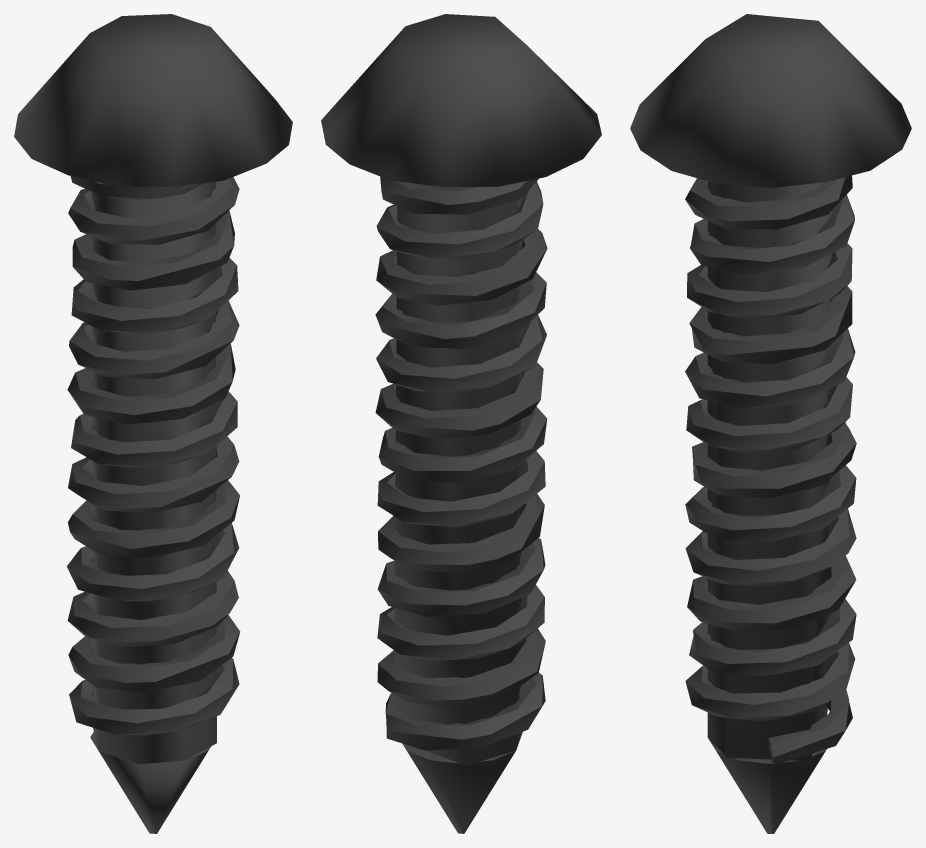
File: ALV-DRY-006_lod1.glb
3 views of the same model, side by side, from view 1: azimuth 30°, elevation 25°; view 2: azimuth 150°, elevation 25°; view 3: azimuth 270°, elevation 25° (orthographic).
Parts seen in each view (by area): view 1: ALV-DRY-006_rosca, ALV-DRY-006_cab, ALV-DRY-006_haste, ALV-DRY-006_ponta; view 2: ALV-DRY-006_rosca, ALV-DRY-006_cab, ALV-DRY-006_haste, ALV-DRY-006_ponta; view 3: ALV-DRY-006_rosca, ALV-DRY-006_cab, ALV-DRY-006_haste, ALV-DRY-006_ponta.
Boxes of the visible parts, x1=… form: ALV-DRY-006_rosca: x1=67, y1=176, x2=240, y2=735; ALV-DRY-006_cab: x1=14, y1=14, x2=292, y2=186; ALV-DRY-006_haste: x1=91, y1=181, x2=216, y2=764; ALV-DRY-006_ponta: x1=90, y1=732, x2=210, y2=833; ALV-DRY-006_rosca: x1=375, y1=176, x2=547, y2=750; ALV-DRY-006_cab: x1=321, y1=14, x2=601, y2=186; ALV-DRY-006_haste: x1=394, y1=183, x2=522, y2=765; ALV-DRY-006_ponta: x1=402, y1=732, x2=522, y2=833; ALV-DRY-006_rosca: x1=685, y1=175, x2=856, y2=765; ALV-DRY-006_cab: x1=630, y1=14, x2=911, y2=187; ALV-DRY-006_haste: x1=707, y1=181, x2=832, y2=760; ALV-DRY-006_ponta: x1=708, y1=738, x2=826, y2=833.
Bounding box in the file's own units: 0.00801 × 0.0249 × 0.00801.
1 material, 1 textured.
